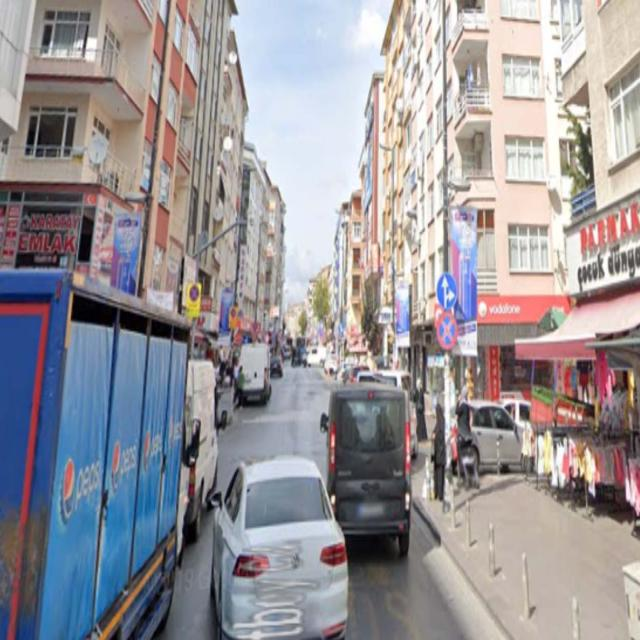ilerisag: (438, 274, 457, 306)
